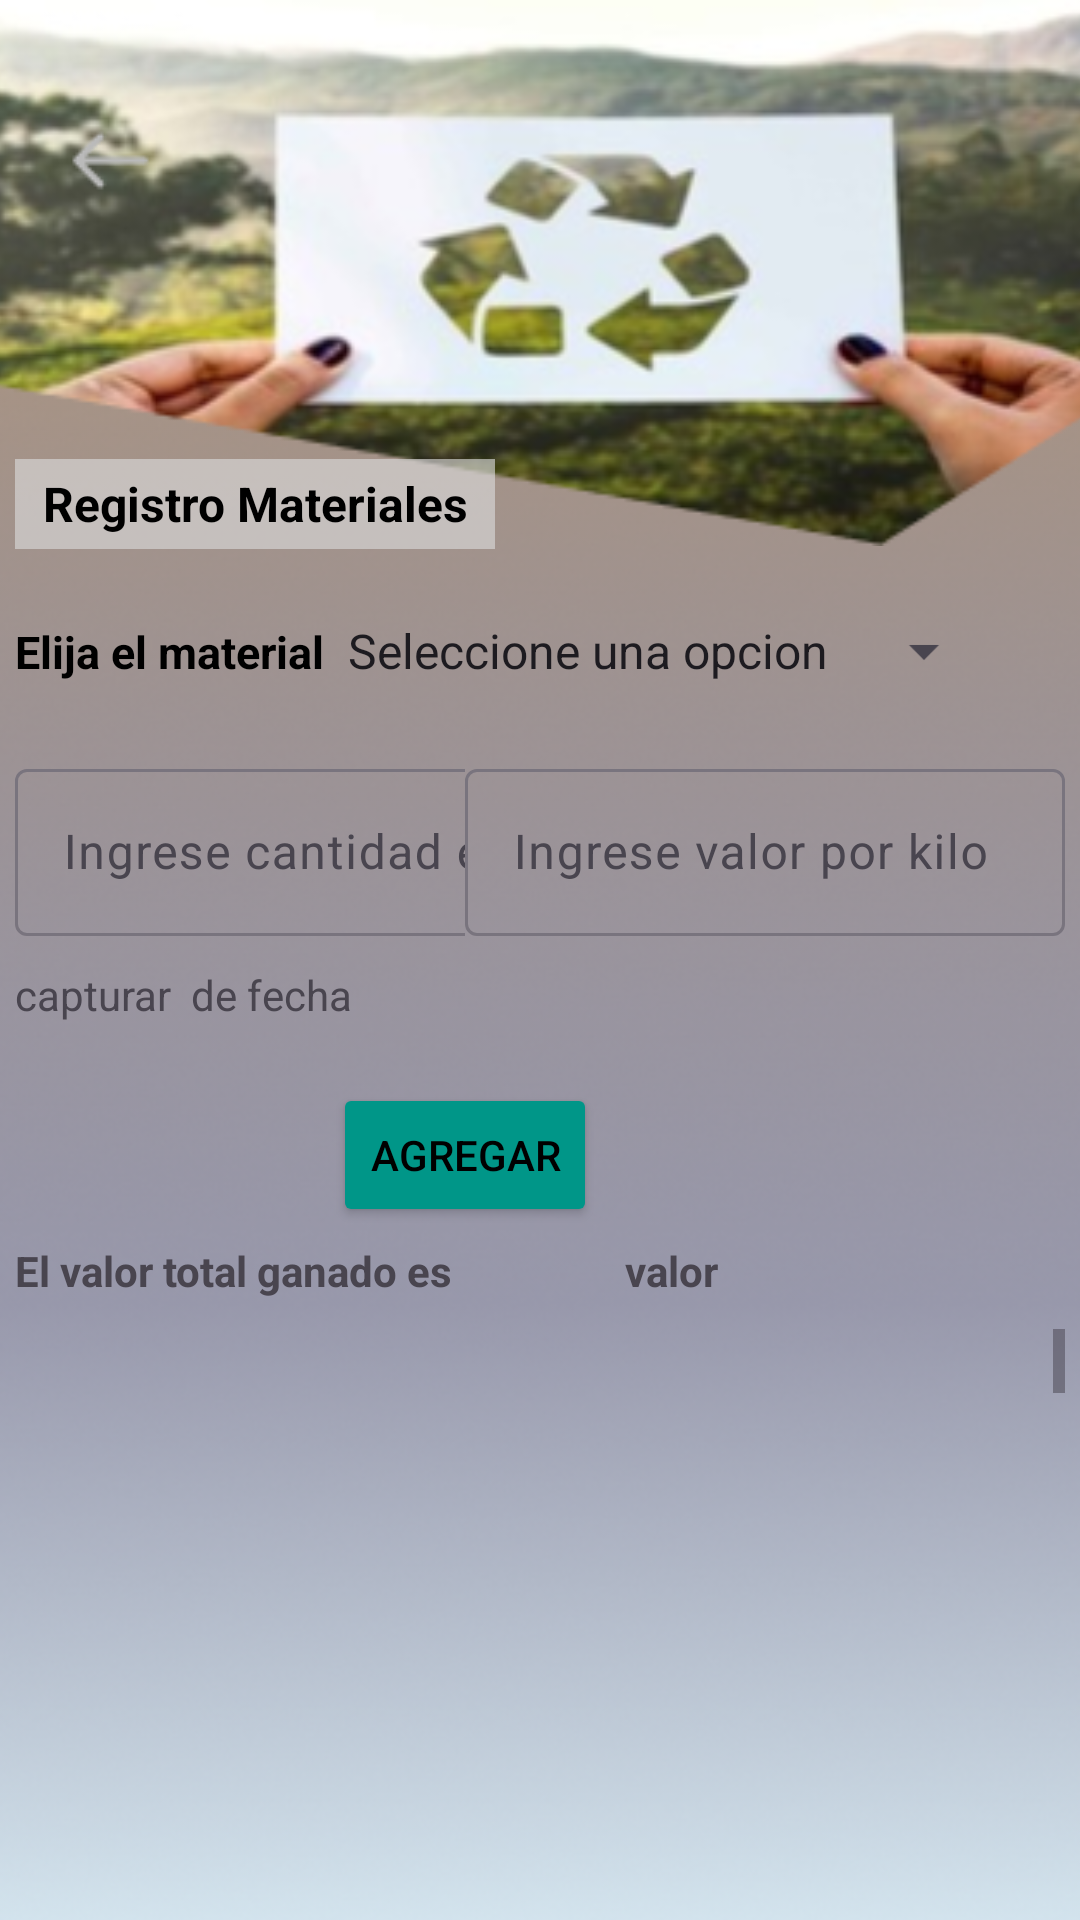

Icon click points for this 1080 x 1920 phone screenshot, format point (x, y):
retroceso: point (110, 160)
